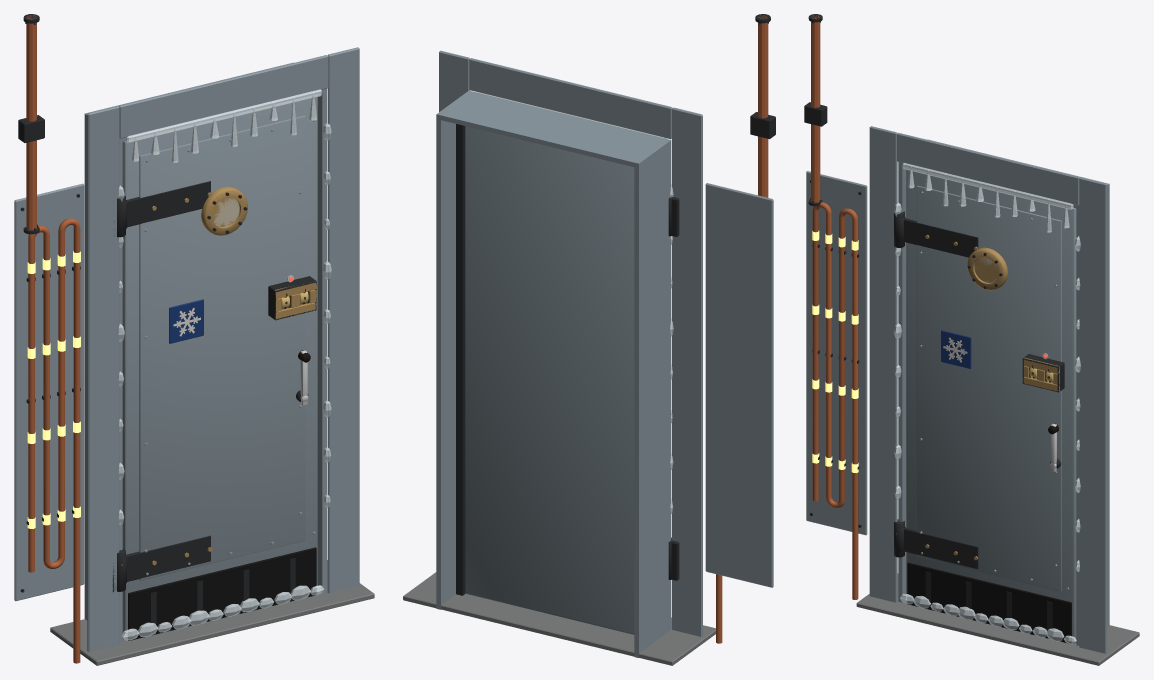
Rendered from cold_door.glb.
3 renders of one model, left to right at view 1: azimuth 30°, elevation 25°; view 2: azimuth 150°, elevation 25°; view 3: azimuth 330°, elevation 25°, orthographic. The views are drawn at different scales.
Parts seen in each view (by area): view 1: IA_cold_door, cold_door_frame, door_ice, coil_glow; view 2: cold_door_frame, IA_cold_door; view 3: IA_cold_door, cold_door_frame, door_ice, coil_glow.
Part boxes in pixels (x1,y1,x2,y2): IA_cold_door: (122,97,317,640); cold_door_frame: (14,14,374,665); door_ice: (117,89,331,640); coil_glow: (27,251,80,528); cold_door_frame: (403,14,775,665); IA_cold_door: (465,126,634,634); IA_cold_door: (897,169,1076,643); cold_door_frame: (804,14,1139,665); door_ice: (894,163,1080,644); coil_glow: (812,230,858,472).
Bounding box in the file's own units: 1.5 × 2.7 × 0.35.
